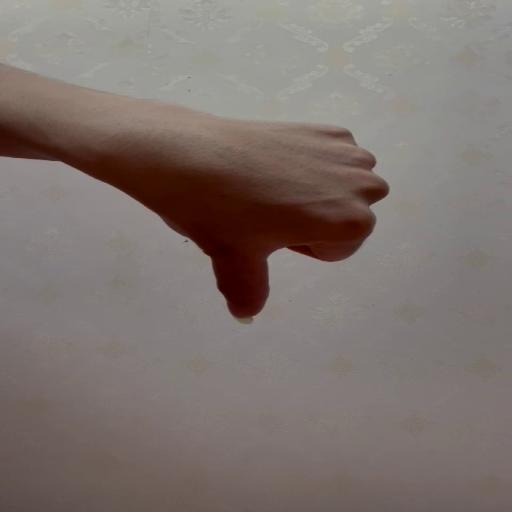thumbs_down: (124, 120, 393, 326)
